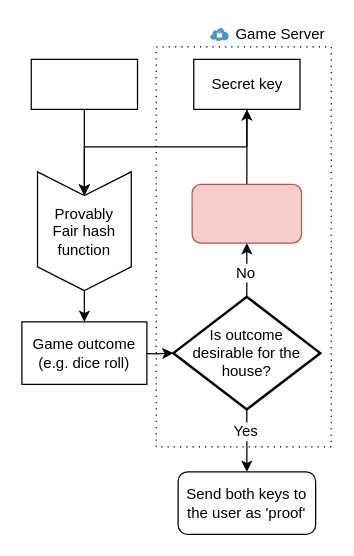
Some shapes in this 354 by 556 pixel diagram are drawn without their labels. Here are the shapes that lost their labels. From the top down, the centre of each, then its label:
At [84,83]: "Public game key".
At [246,213]: "Regenerate the secret key".
